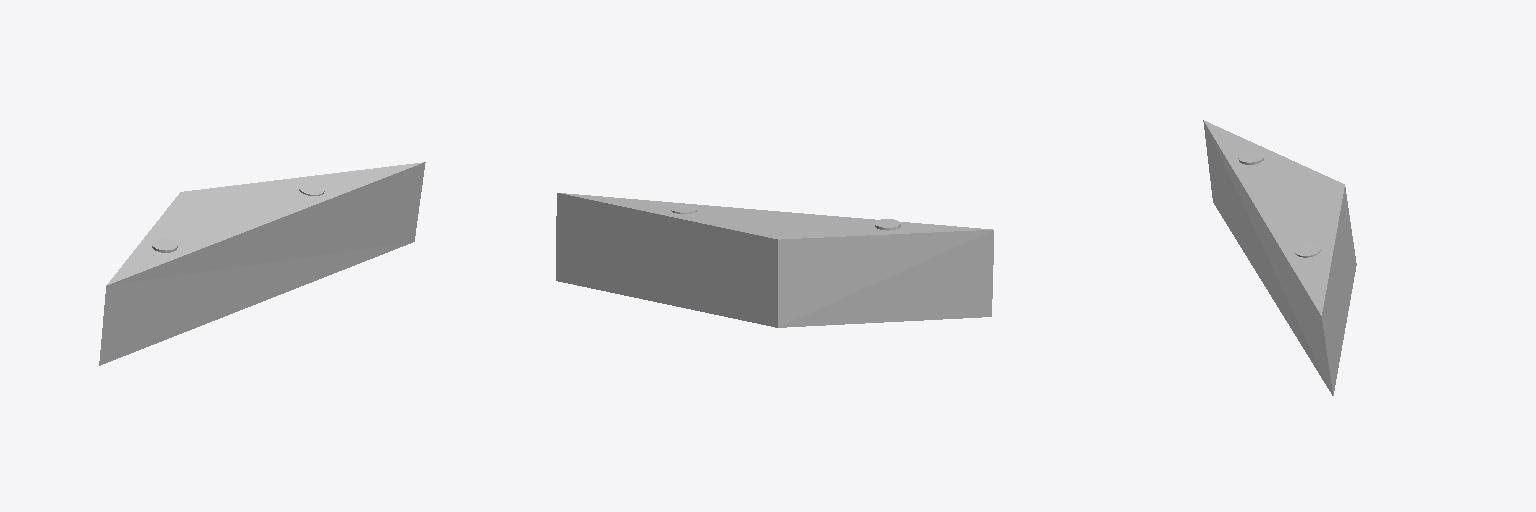
Rendered from barra_inferior_der.obj.
3 views of the same model, side by side, from view 1: azimuth 30°, elevation 25°; view 2: azimuth 150°, elevation 25°; view 3: azimuth 270°, elevation 25° (orthographic).
Visible parts, largest first — view 1: Cubo.001_Cubo.002; view 2: Cubo.001_Cubo.002; view 3: Cubo.001_Cubo.002.
Boxes of the visible parts, x1=… form: Cubo.001_Cubo.002: x1=99, y1=162, x2=425, y2=365; Cubo.001_Cubo.002: x1=556, y1=193, x2=993, y2=327; Cubo.001_Cubo.002: x1=1203, y1=120, x2=1356, y2=395.
Size of the model in its own units: 9.53 by 2.42 by 3.32.